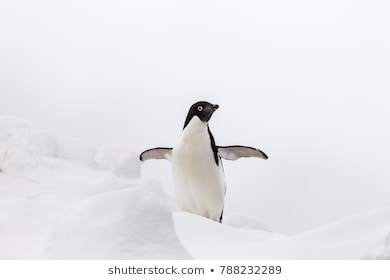penguin: (134, 89, 275, 241)
